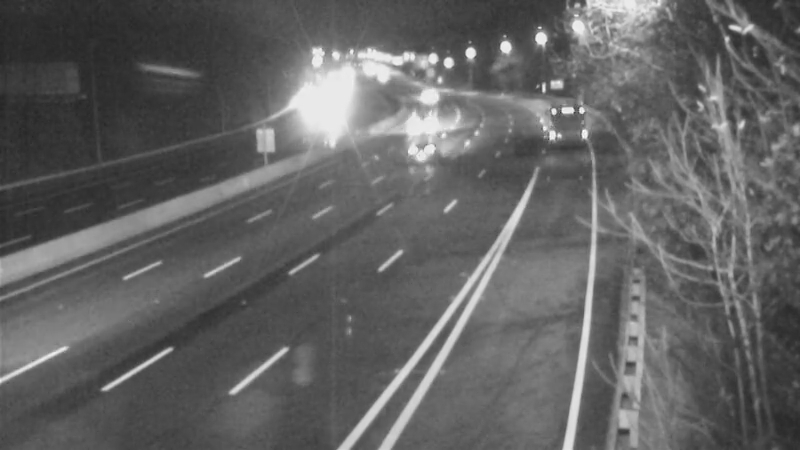vehicle: (405, 69, 455, 119), (536, 98, 586, 148), (396, 99, 446, 149), (395, 125, 445, 175)
